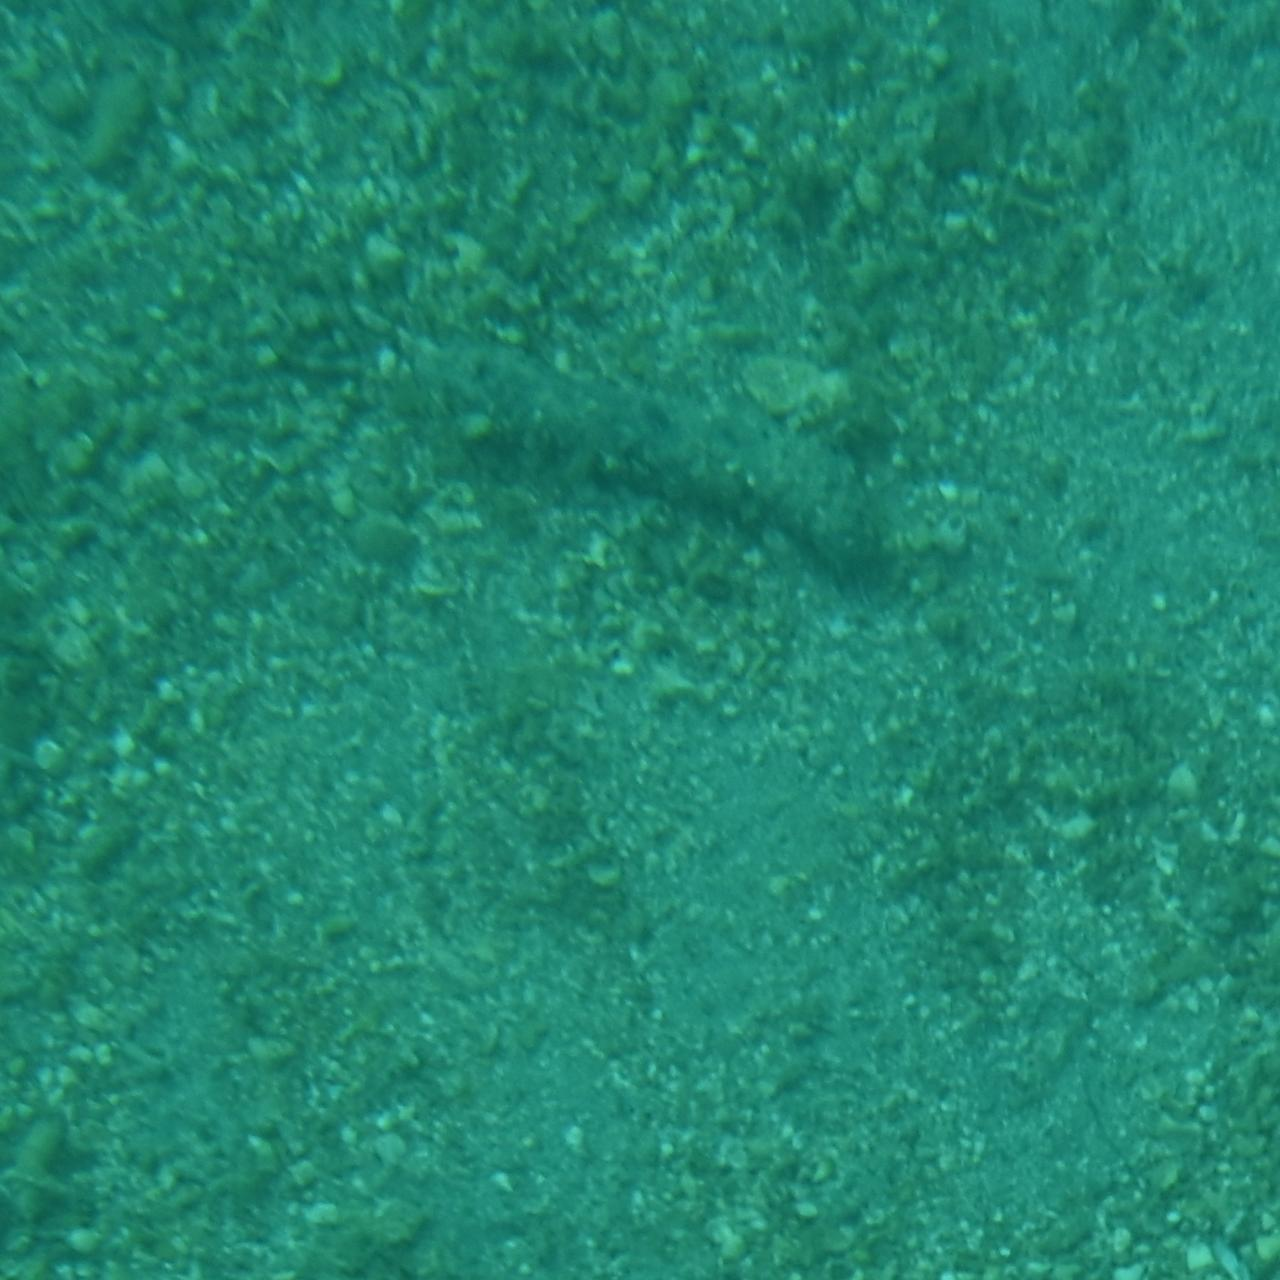Holothuria tubulosa: (385, 340, 895, 607)
